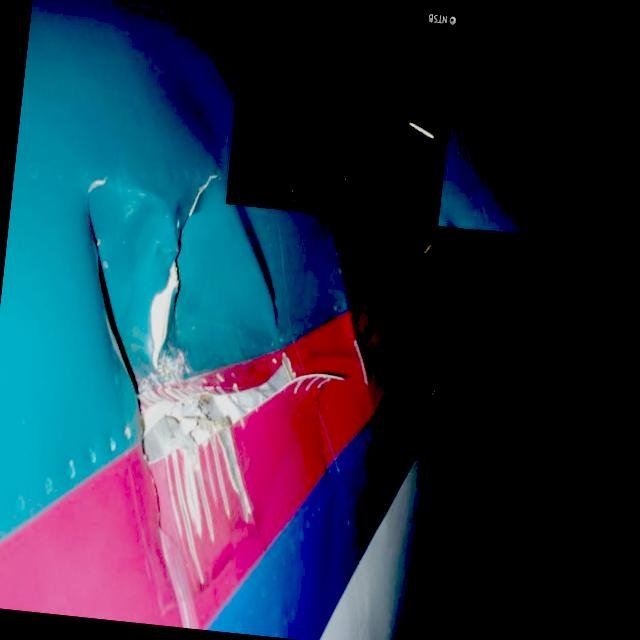crack: (140, 162, 225, 376)
dent: (126, 202, 170, 273), (118, 276, 150, 342)
